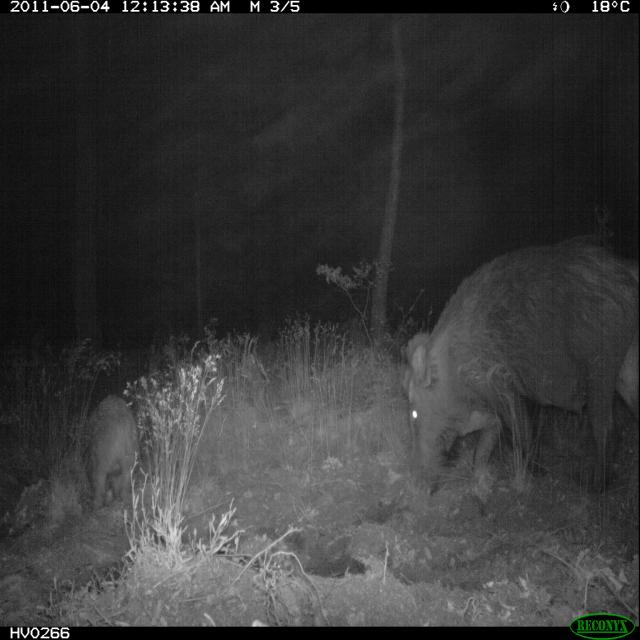boar: (375, 211, 636, 538), (50, 357, 176, 545)
